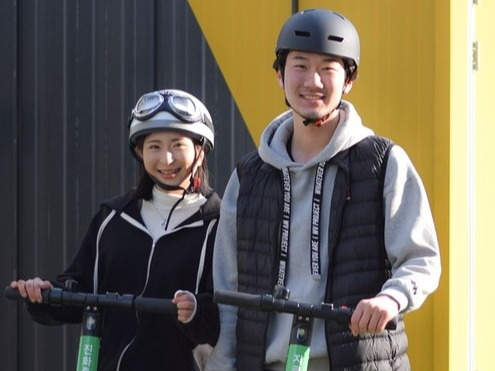scooter: (19, 279, 194, 371), (216, 287, 402, 371)
with helmet: (272, 7, 362, 123), (127, 87, 219, 190)
